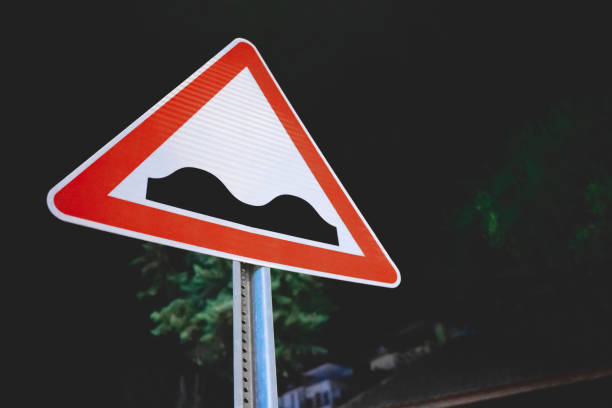speed-breaker: (105, 76, 359, 246)
